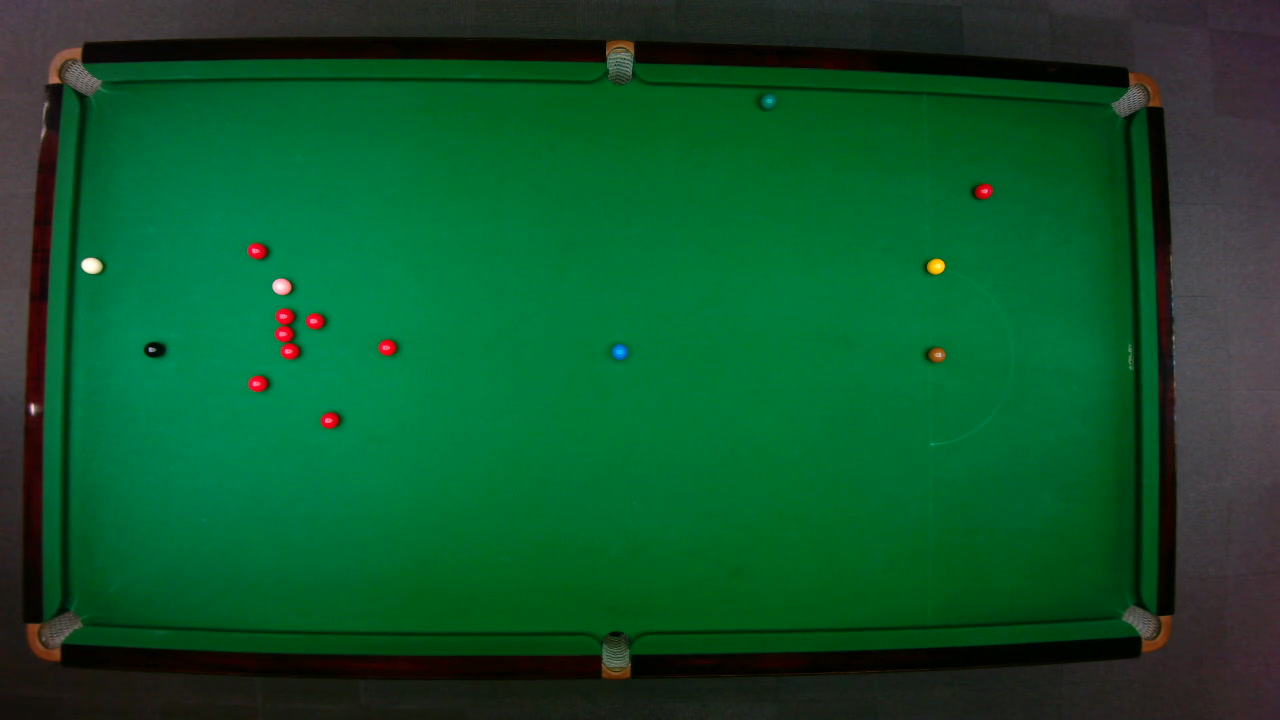bag: (25, 609, 83, 662), (45, 46, 102, 96), (1119, 603, 1171, 652), (1108, 71, 1161, 118), (600, 629, 629, 680), (605, 38, 633, 85)
black: (142, 340, 164, 358)
blue: (610, 342, 628, 360)
brown: (926, 346, 946, 362)
green: (758, 92, 776, 110)
pink: (270, 276, 292, 295)
red: (318, 410, 340, 429), (246, 374, 269, 392), (376, 337, 397, 356), (303, 311, 325, 329), (245, 241, 267, 259), (273, 306, 294, 324), (272, 325, 294, 342), (278, 342, 300, 359), (973, 182, 994, 199)
white: (78, 255, 103, 274)
yellow: (925, 257, 946, 274)
zone: (926, 267, 1014, 445)
